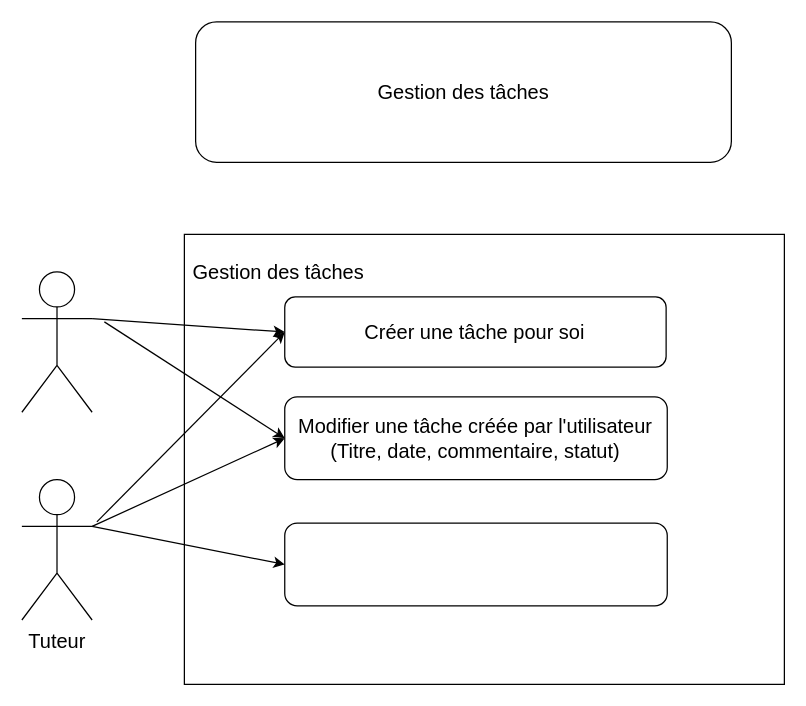
Image size: 806x706. Some labels were removed from this diagram. The centre of each missing label's shape, as x and y in pixels:
Créer une tâche pour un élève suivi: (x=475, y=564)
Eleve: (x=56, y=341)
